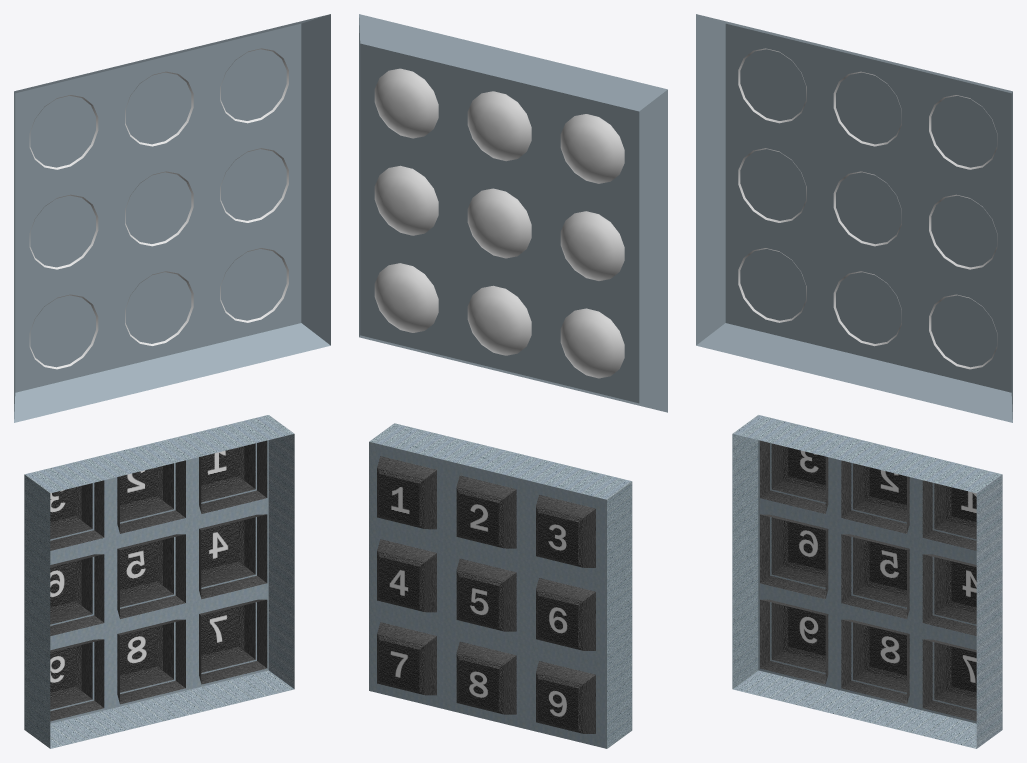
The model's file is Keypad.fbx.
The picture shows the model from 3 angles, left to right: view 1: azimuth 30°, elevation 25°; view 2: azimuth 150°, elevation 25°; view 3: azimuth 330°, elevation 25°; orthographic projection. The views are drawn at different scales.
Parts seen in each view (by area): view 1: CrystalBase, KeyBase, Key4, Key7, Key8, Key5, Key1, Key2, Key9, Key6, Key3; view 2: CrystalBase, KeyBase, Key2, Key5, Key8, Key1, Key4, Key7, Key3, Key9, Key6, Crystal1 (+8 smaller); view 3: CrystalBase, KeyBase, Key5, Key8, Key6, Key9, Key2, Key3, Key4, Key7, Key1.
Boxes of the visible parts, <box> form: CrystalBase: <box>14,14,330,422</box>; KeyBase: <box>24,415,294,748</box>; Key4: <box>199,514,267,599</box>; Key7: <box>199,599,267,684</box>; Key8: <box>117,619,185,704</box>; Key5: <box>117,534,185,618</box>; Key1: <box>199,440,267,513</box>; Key2: <box>117,460,185,533</box>; Key9: <box>50,639,104,721</box>; Key6: <box>50,554,104,635</box>; Key3: <box>50,480,104,550</box>; CrystalBase: <box>359,14,667,412</box>; KeyBase: <box>369,423,632,748</box>; Key2: <box>456,475,516,548</box>; Key5: <box>456,558,516,631</box>; Key8: <box>456,641,516,714</box>; Key1: <box>377,456,436,529</box>; Key4: <box>377,539,436,612</box>; Key7: <box>377,622,436,695</box>; Key3: <box>536,495,595,567</box>; Key9: <box>536,661,595,733</box>; Key6: <box>536,578,595,650</box>; Crystal1: <box>374,68,438,138</box>; CrystalBase: <box>696,14,1012,422</box>; KeyBase: <box>732,415,1002,748</box>; Key5: <box>841,534,909,618</box>; Key8: <box>841,619,909,704</box>; Key6: <box>760,514,828,599</box>; Key9: <box>760,599,828,684</box>; Key2: <box>841,460,909,533</box>; Key3: <box>760,440,828,513</box>; Key4: <box>922,554,976,635</box>; Key7: <box>922,639,976,721</box>; Key1: <box>922,480,976,550</box>.
Bounding box in the file's own units: 1240 × 2492 × 242.
